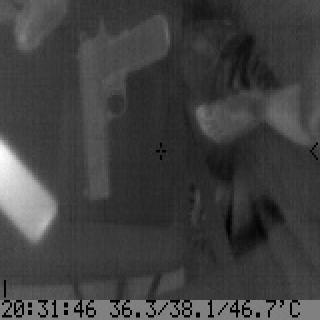Gun: (72, 7, 174, 205)
